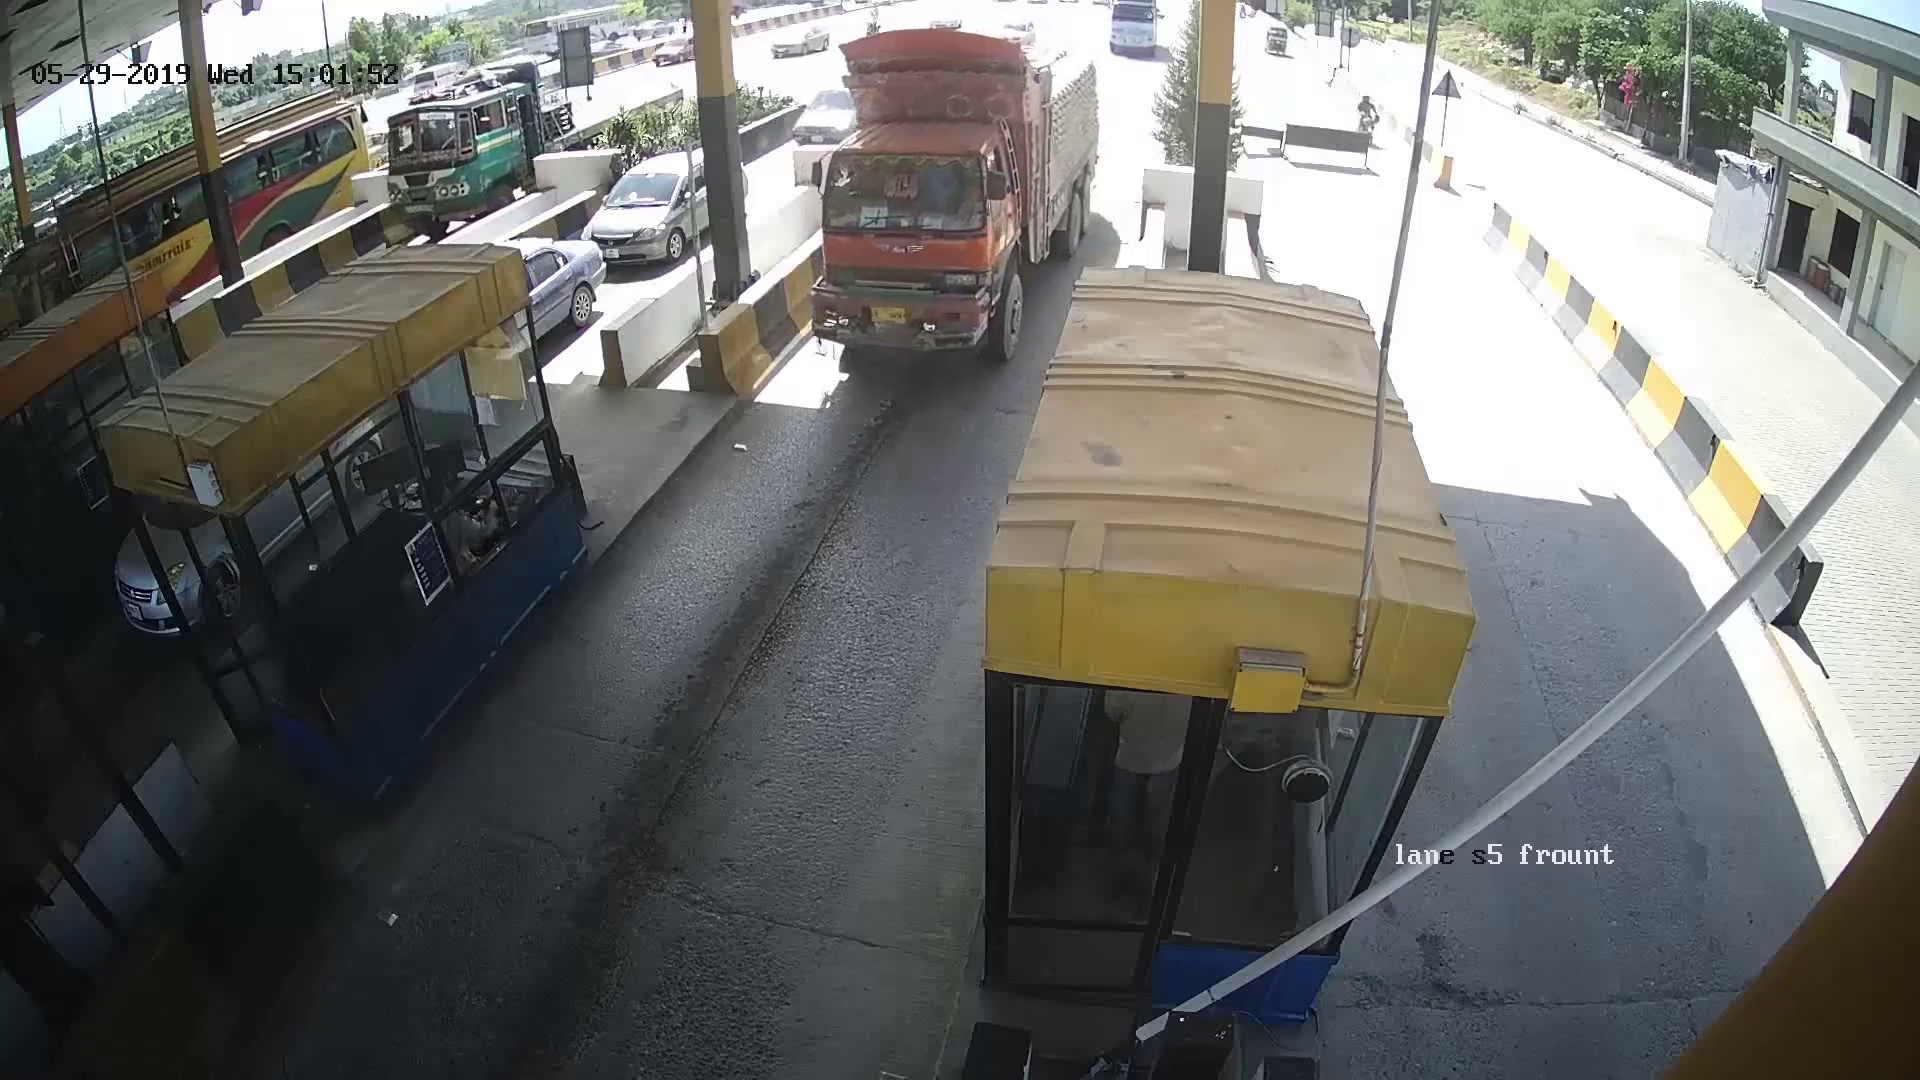truck: (825, 61, 1071, 338)
